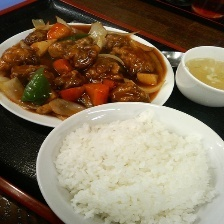rice: (54, 115, 222, 224)
